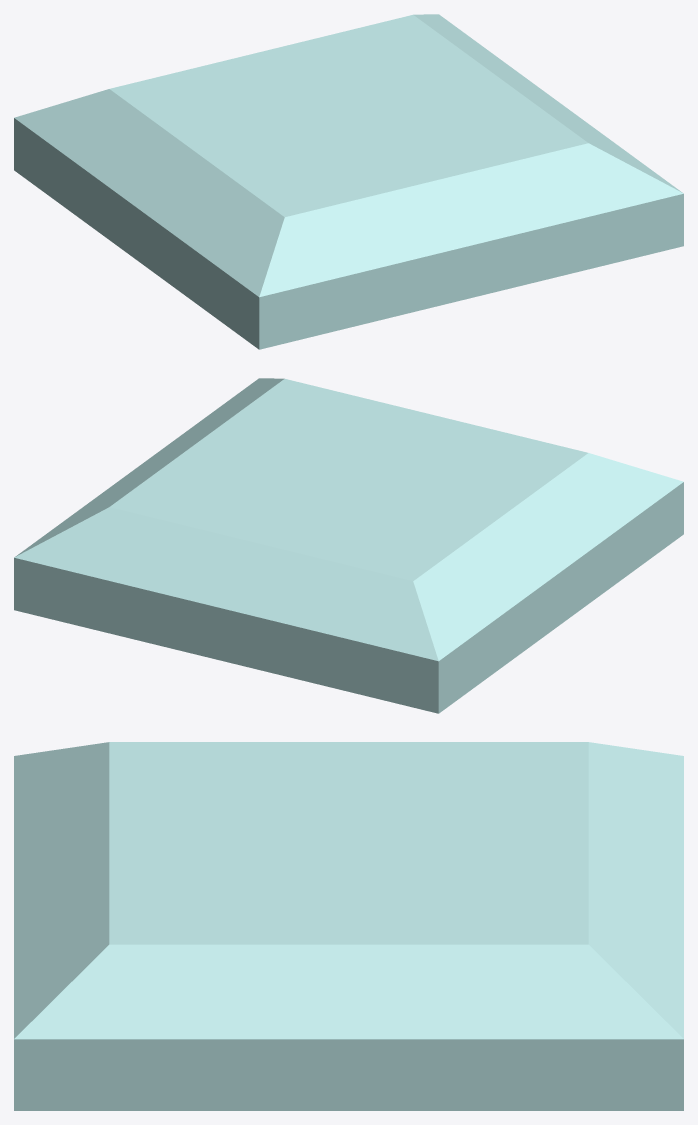
Rendered from Jem_21.fbx.
3 renders of one model, top to bottom at view 1: azimuth 30°, elevation 25°; view 2: azimuth 150°, elevation 25°; view 3: azimuth 270°, elevation 25°, orthographic. The views are drawn at different scales.
Visible parts, largest first — view 1: Jem_21; view 2: Jem_21; view 3: Jem_21.
Part boxes in pixels (x1,y1,x2,y2): Jem_21: (14,14,683,349); Jem_21: (14,378,683,713); Jem_21: (14,742,683,1110).
Bounding box in the file's own units: 40 × 8.3 × 40.
